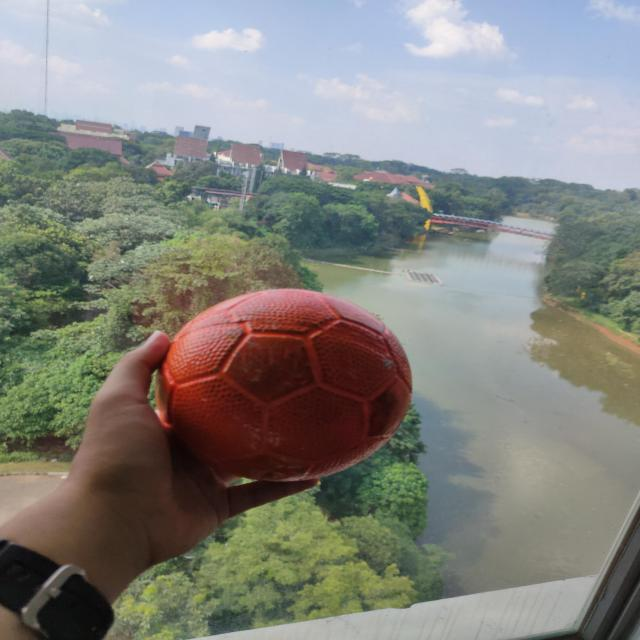bola: (158, 286, 419, 488)
